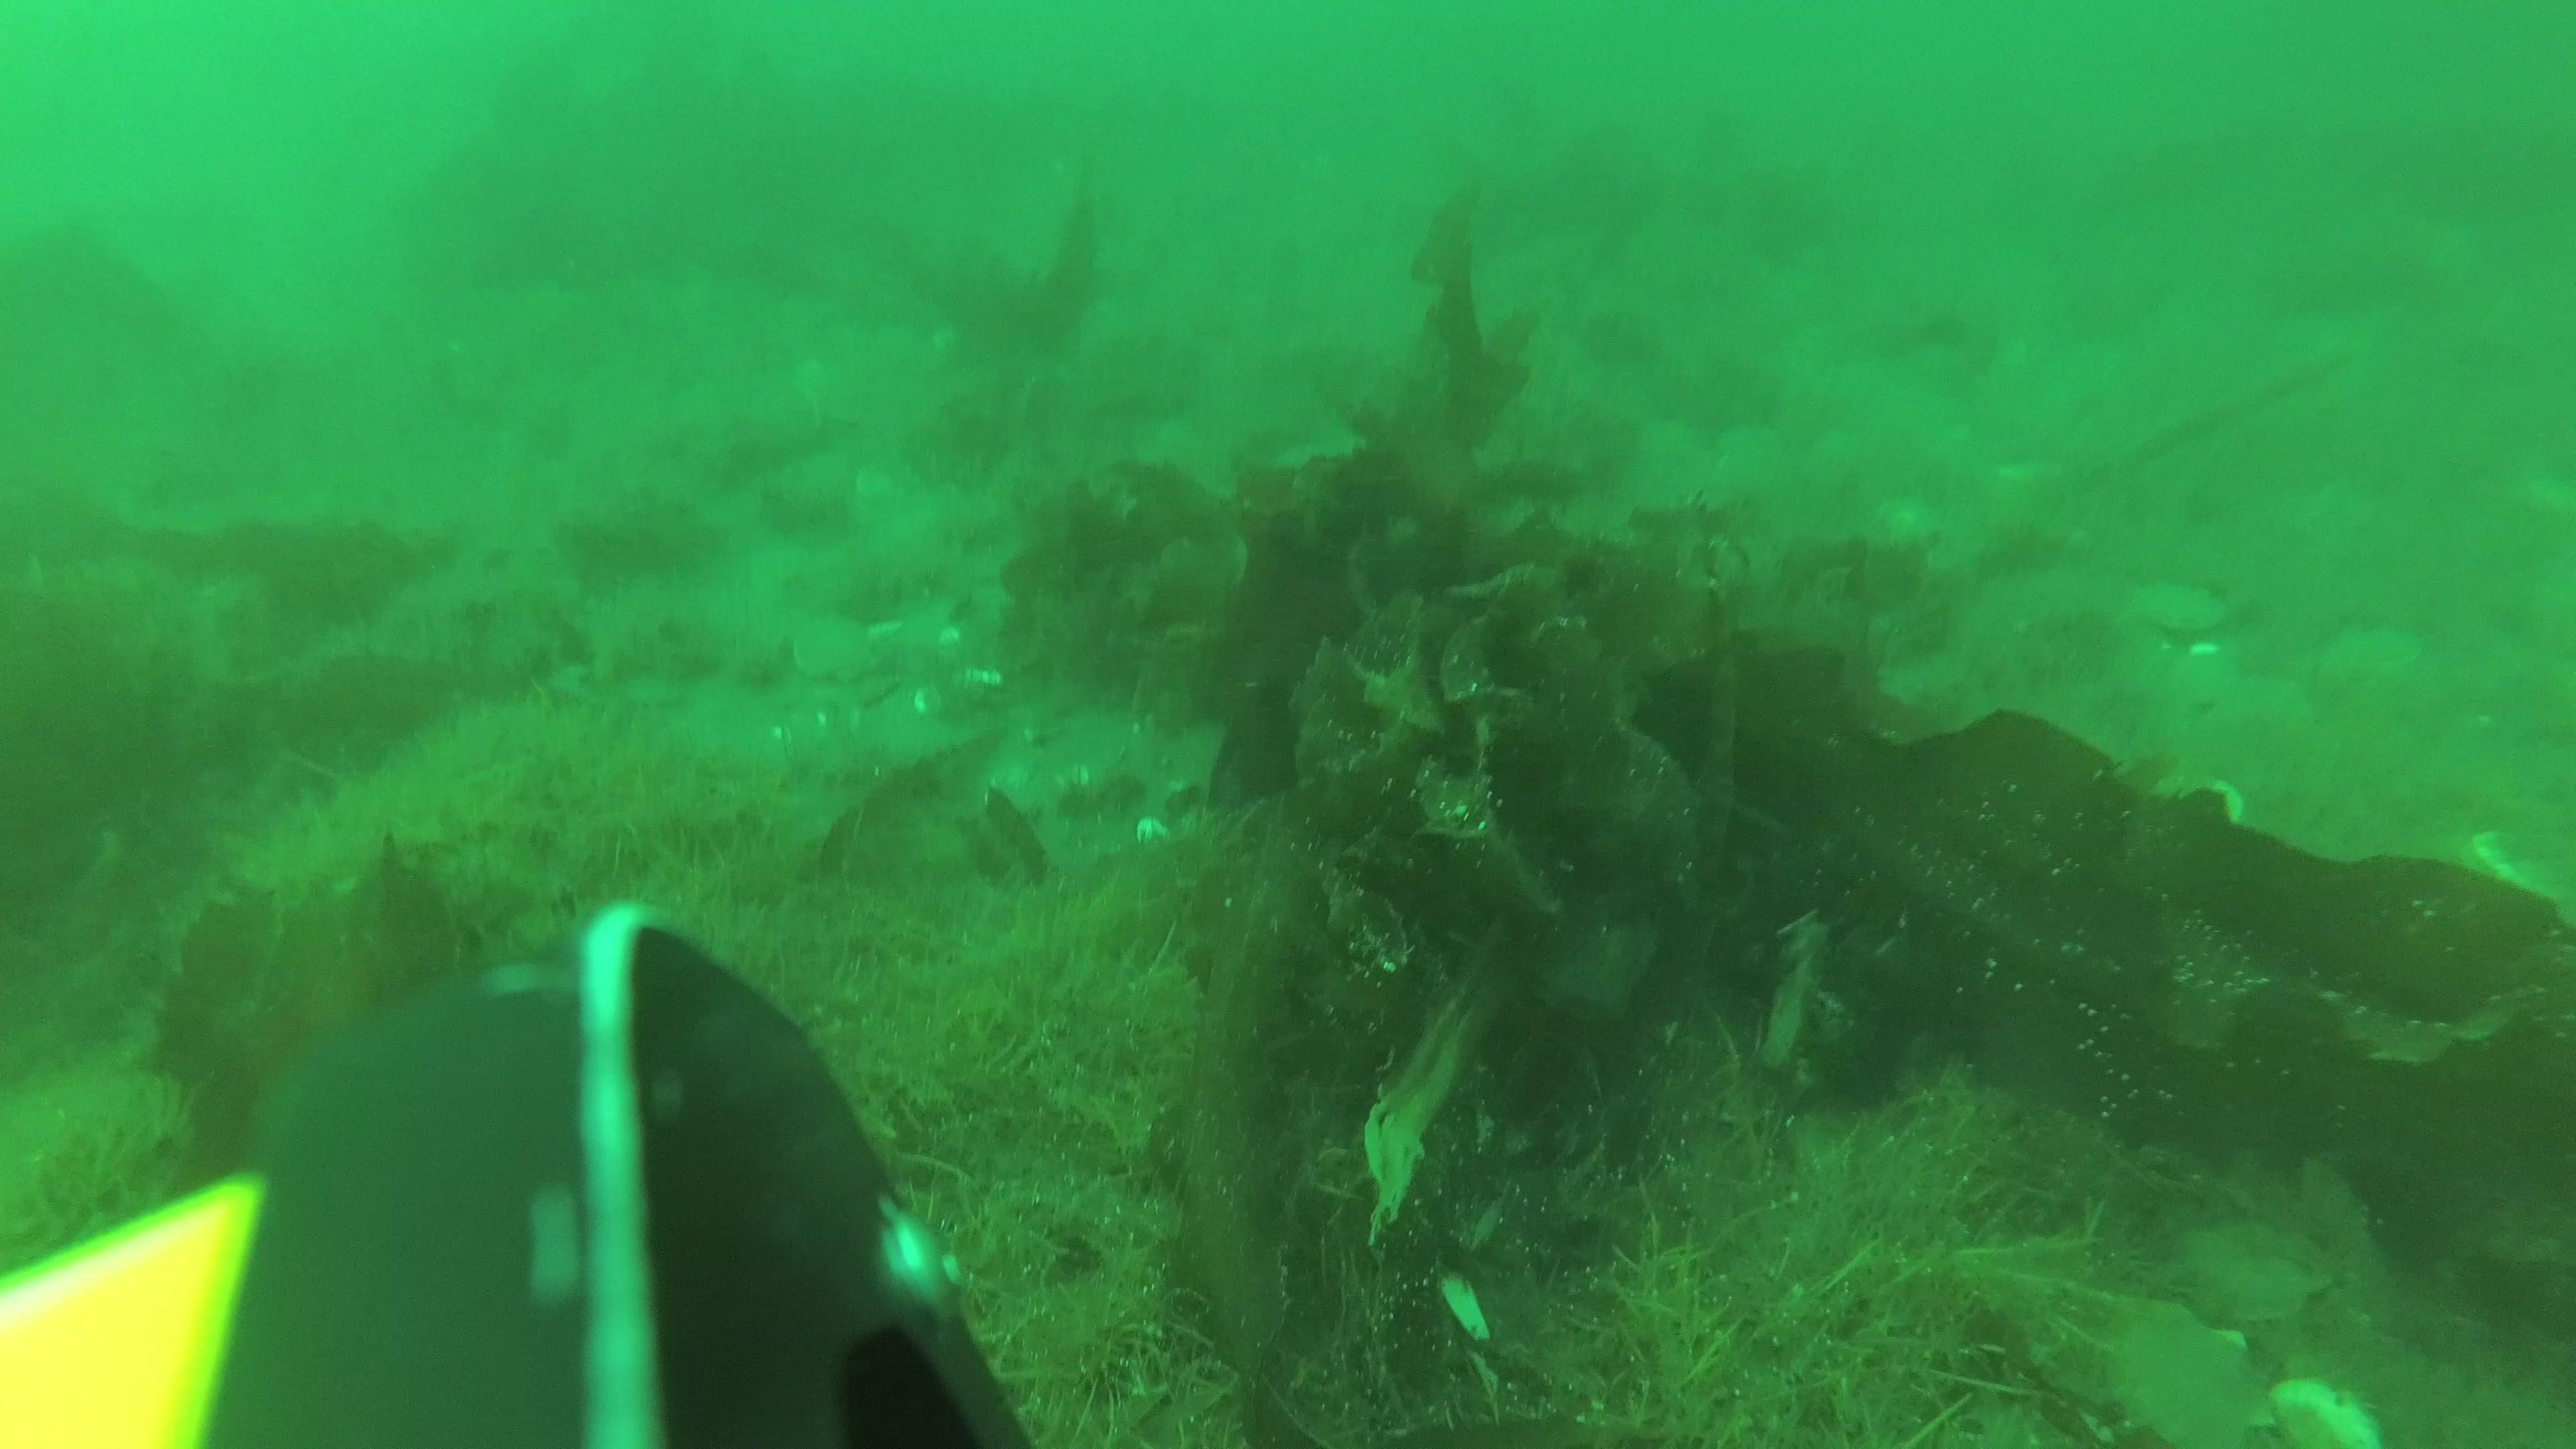scallop: (2095, 1276, 2279, 1449), (2180, 1200, 2346, 1329), (786, 605, 888, 690), (2134, 566, 2240, 644), (2328, 616, 2429, 681), (2150, 770, 2250, 835)
